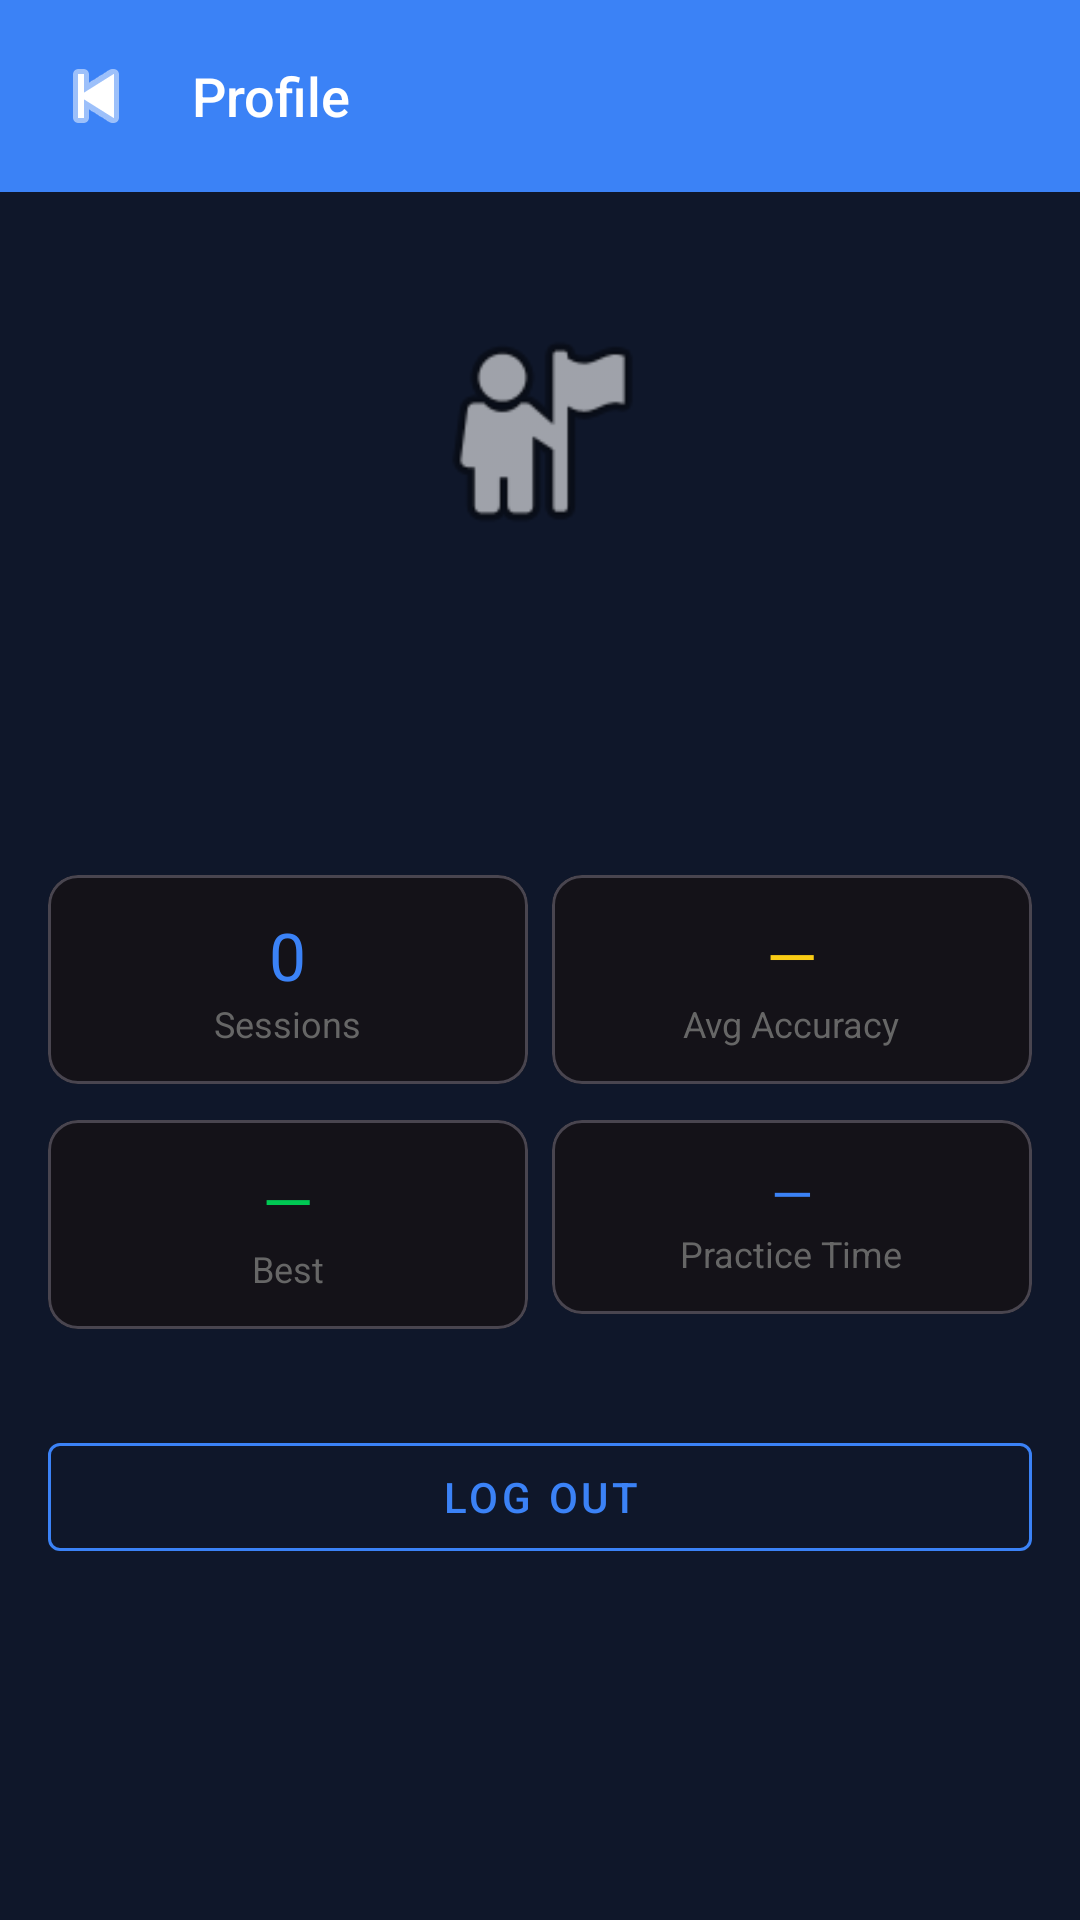

Screen size 1080x1920. Icon name, then its box in pixels as (x1, y1, x2, y2):
previous: (73, 69, 119, 123)
